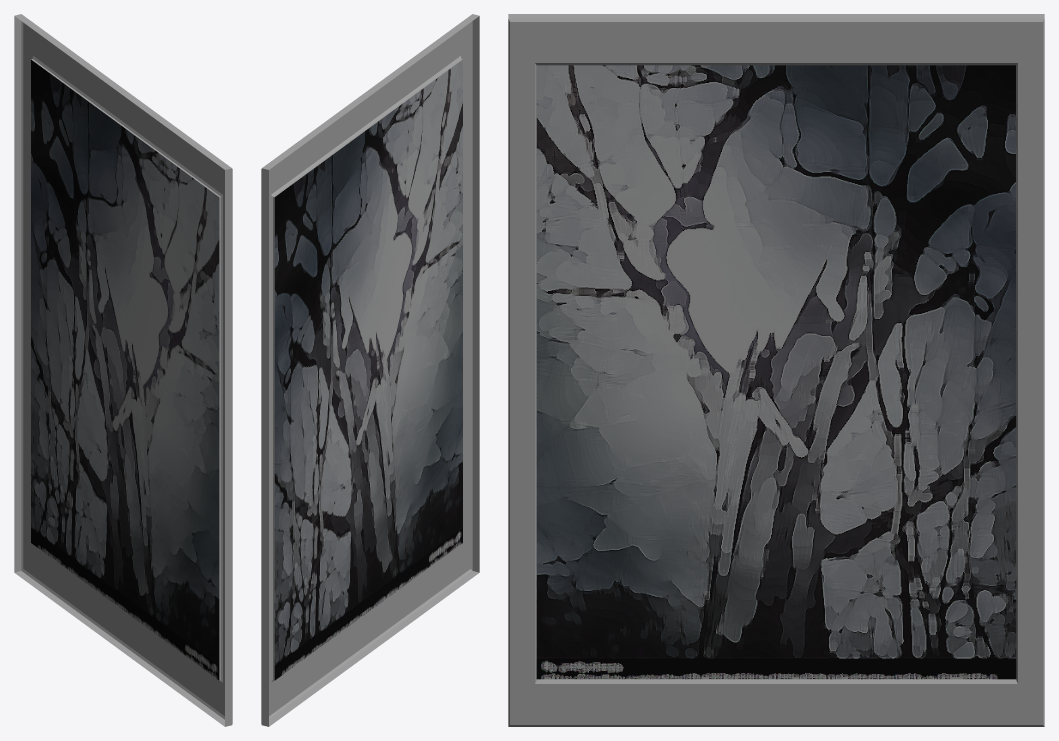
The model's file is Painting 3.fbx.
3 renders of one model, left to right at view 1: azimuth 30°, elevation 25°; view 2: azimuth 150°, elevation 25°; view 3: azimuth 270°, elevation 25°, orthographic. The views are drawn at different scales.
Visible parts, largest first — view 1: pCube21; view 2: pCube21; view 3: pCube21.
Boxes of the visible parts, box(x1,y1,x2,y2) form: pCube21: box(14, 14, 232, 726); pCube21: box(261, 14, 479, 726); pCube21: box(508, 14, 1044, 726).
Size of the model in its own units: 0.0232 by 1.46 by 1.
